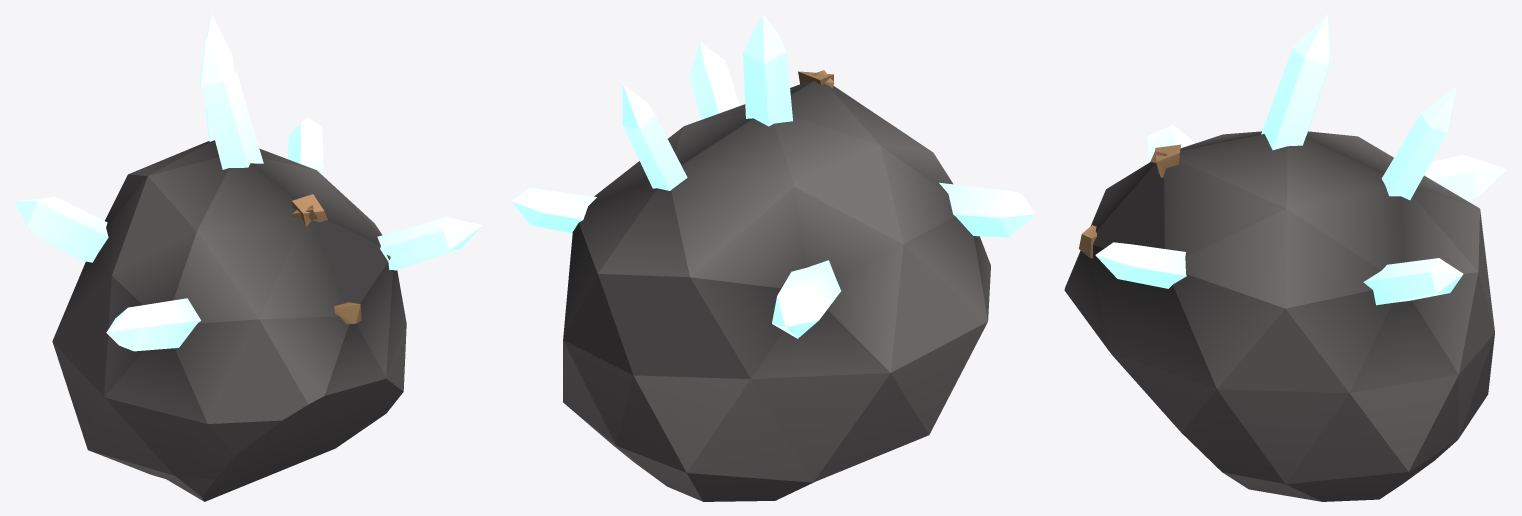
The model's file is obj_oficio_veta_2.glb.
The picture shows the model from 3 angles, left to right: view 1: azimuth 30°, elevation 25°; view 2: azimuth 150°, elevation 25°; view 3: azimuth 270°, elevation 25°; orthographic projection. The views are drawn at different scales.
Visible parts, largest first — view 1: propforge-libre-oficio_veta; view 2: propforge-libre-oficio_veta; view 3: propforge-libre-oficio_veta.
Part boxes in pixels (x1,y1,x2,y2): propforge-libre-oficio_veta: [14, 14, 482, 501]; propforge-libre-oficio_veta: [511, 14, 1035, 501]; propforge-libre-oficio_veta: [1064, 14, 1507, 501].
Size of the model in its own units: 0.633 by 0.7127 by 0.6691.
